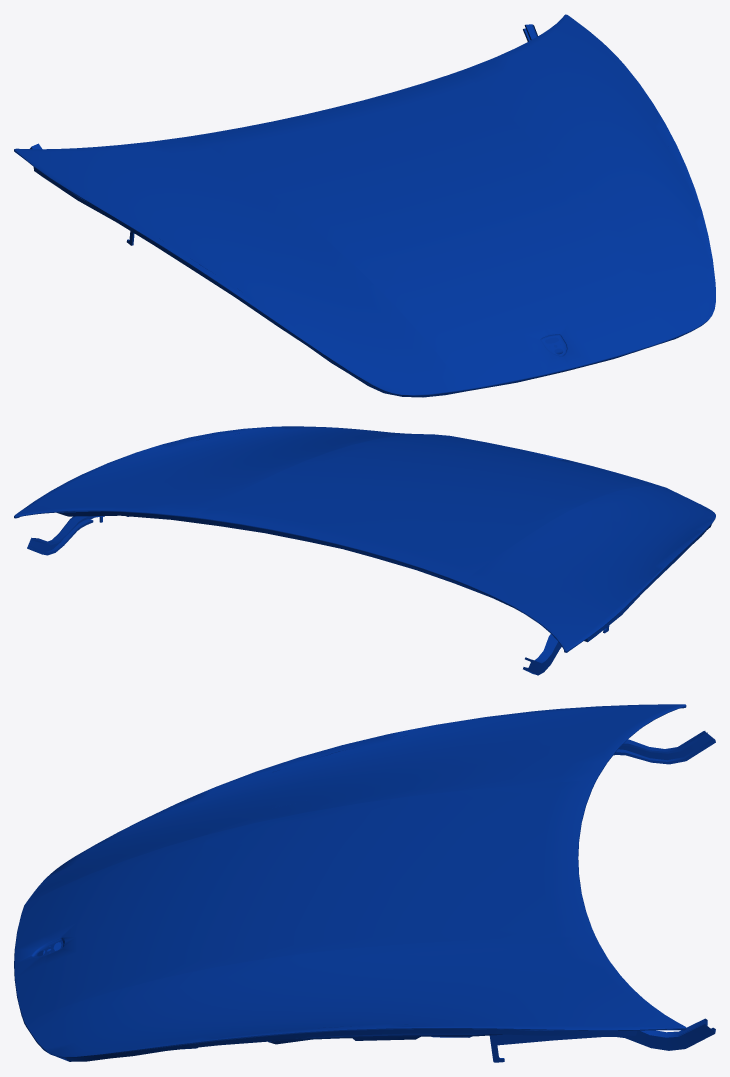
The model's file is Capota_Albastru.fbx.
3 views of the same model, one above another, from view 1: azimuth 30°, elevation 25°; view 2: azimuth 150°, elevation 25°; view 3: azimuth 270°, elevation 25° (orthographic). The views are drawn at different scales.
Parts seen in each view (by area): view 1: bonneT; view 2: bonneT; view 3: bonneT.
Boxes of the visible parts, bbox=[...] form: bonneT: bbox=[14, 14, 715, 397]; bonneT: bbox=[14, 426, 715, 675]; bonneT: bbox=[14, 704, 715, 1062].
Bounding box in the file's own units: 2829 × 463 × 2583.
